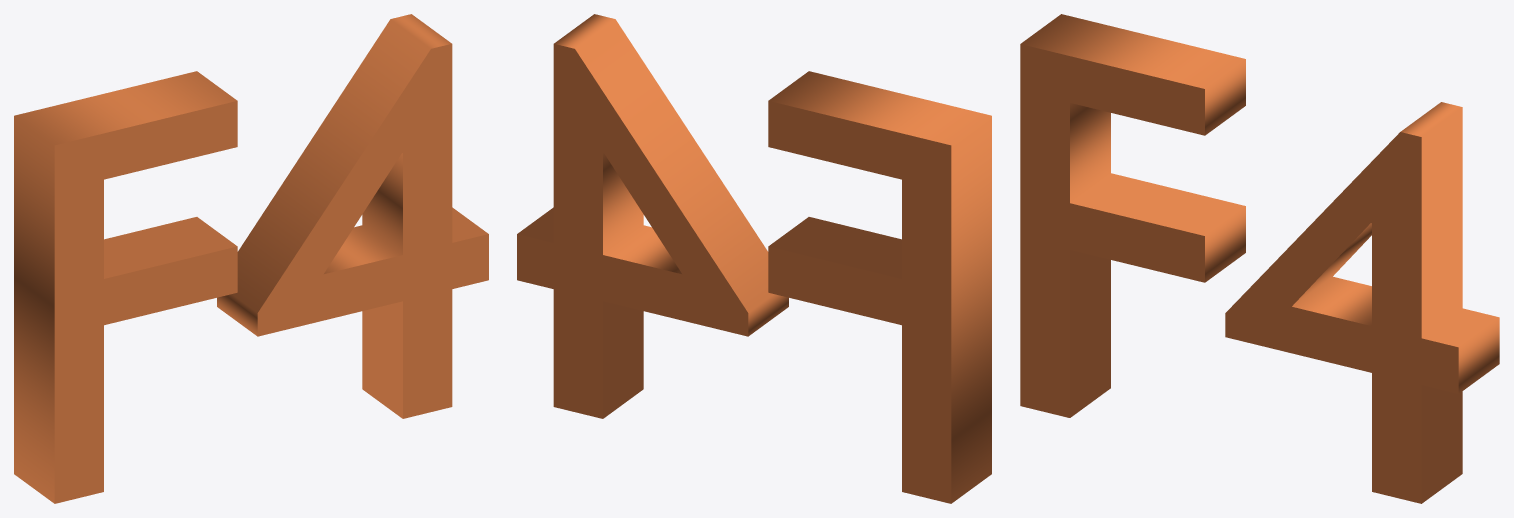
3 renders of one model, left to right at view 1: azimuth 30°, elevation 25°; view 2: azimuth 150°, elevation 25°; view 3: azimuth 330°, elevation 25°, orthographic.
Parts seen in each view (by area): view 1: 텍스트; view 2: 텍스트; view 3: 텍스트.
Boxes of the visible parts, x1,y1,x2,y2 form: 텍스트: (14,14,488,503); 텍스트: (517,14,991,503); 텍스트: (1020,14,1499,503).
Bounding box in the file's own units: 86.4 × 69.1 × 14.
